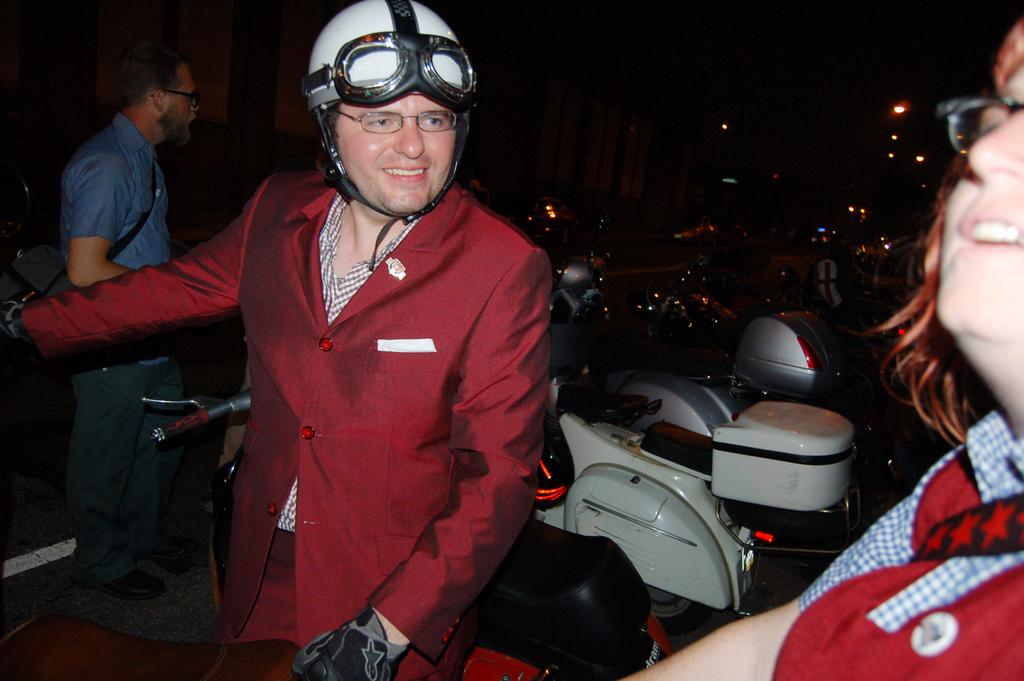helmet: (307, 0, 477, 211)
nohelmet: (115, 40, 201, 149)
